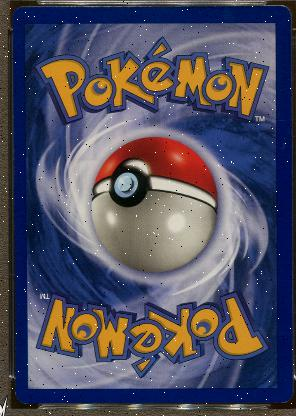Card: (10, 4, 294, 406)
Corner Wear: (14, 390, 30, 406), (276, 392, 292, 404)
Edge Wear: (51, 5, 152, 7), (13, 141, 15, 179)
Scratch: (219, 10, 234, 22), (277, 141, 286, 150), (273, 118, 285, 122)
